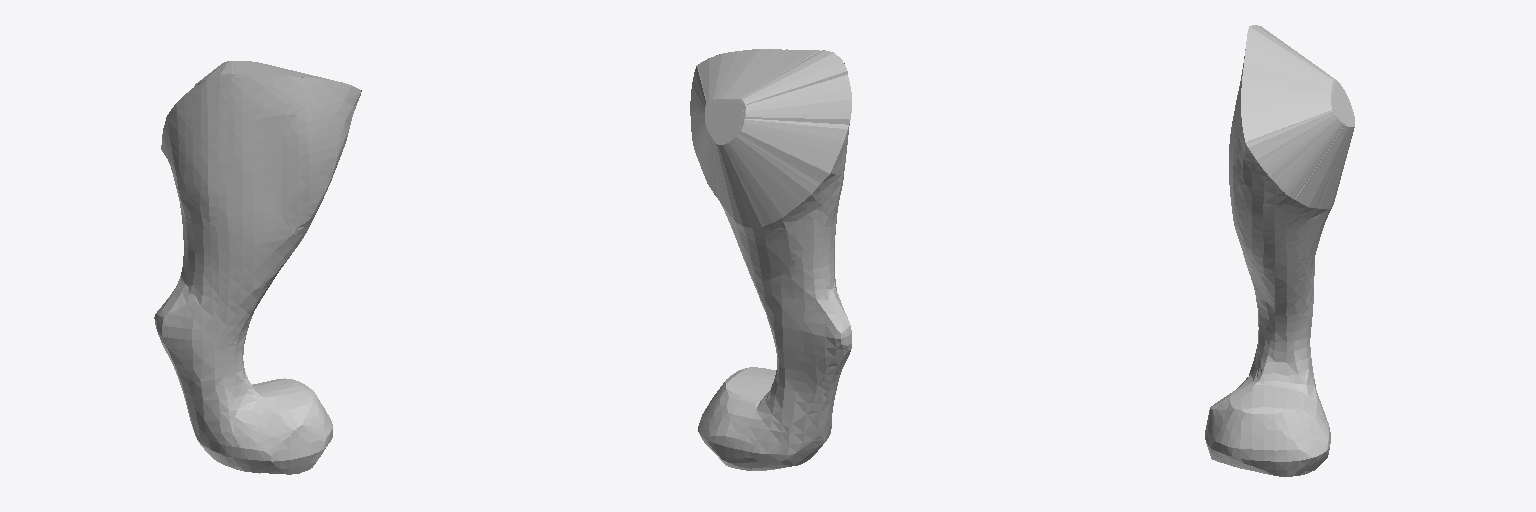
File: B_LeftLegLion.obj
The picture shows the model from 3 angles: view 1: azimuth 30°, elevation 25°; view 2: azimuth 150°, elevation 25°; view 3: azimuth 270°, elevation 25°; orthographic projection.
Visible parts, largest first — view 1: Mesh_0.004; view 2: Mesh_0.004; view 3: Mesh_0.004.
Part boxes in pixels (x1,y1,x2,y2): Mesh_0.004: (154,61,361,474); Mesh_0.004: (690,49,851,470); Mesh_0.004: (1205,25,1354,476).
Size of the model in its own units: 0.1966 by 0.4308 by 0.144.